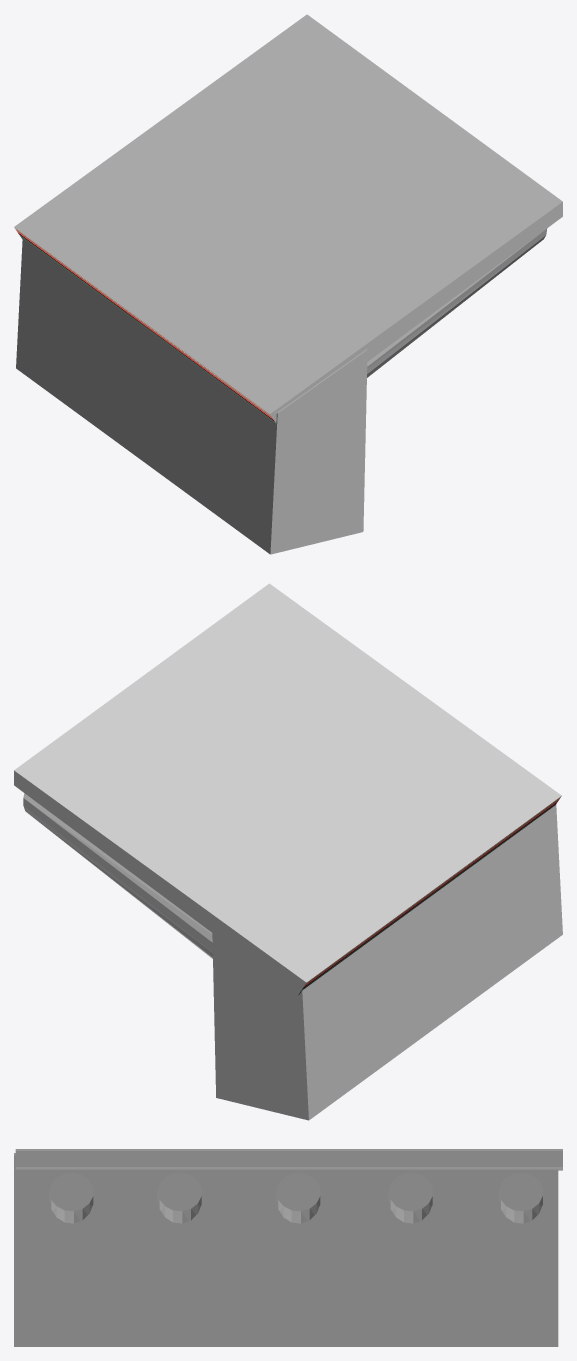
Rendered from SM_Roof_48.fbx.
3 views of the same model, one above another, from view 1: azimuth 30°, elevation 25°; view 2: azimuth 150°, elevation 25°; view 3: azimuth 270°, elevation 25° (orthographic). The views are drawn at different scales.
Parts seen in each view (by area): view 1: SM_Roof_48_LOD0; view 2: SM_Roof_48_LOD0; view 3: SM_Roof_48_LOD0.
Part boxes in pixels (x1=…): SM_Roof_48_LOD0: x1=14, y1=14, x2=562, y2=554; SM_Roof_48_LOD0: x1=14, y1=583, x2=562, y2=1120; SM_Roof_48_LOD0: x1=14, y1=1149, x2=562, y2=1346.
Size of the model in its own units: 218 by 330 by 199.
